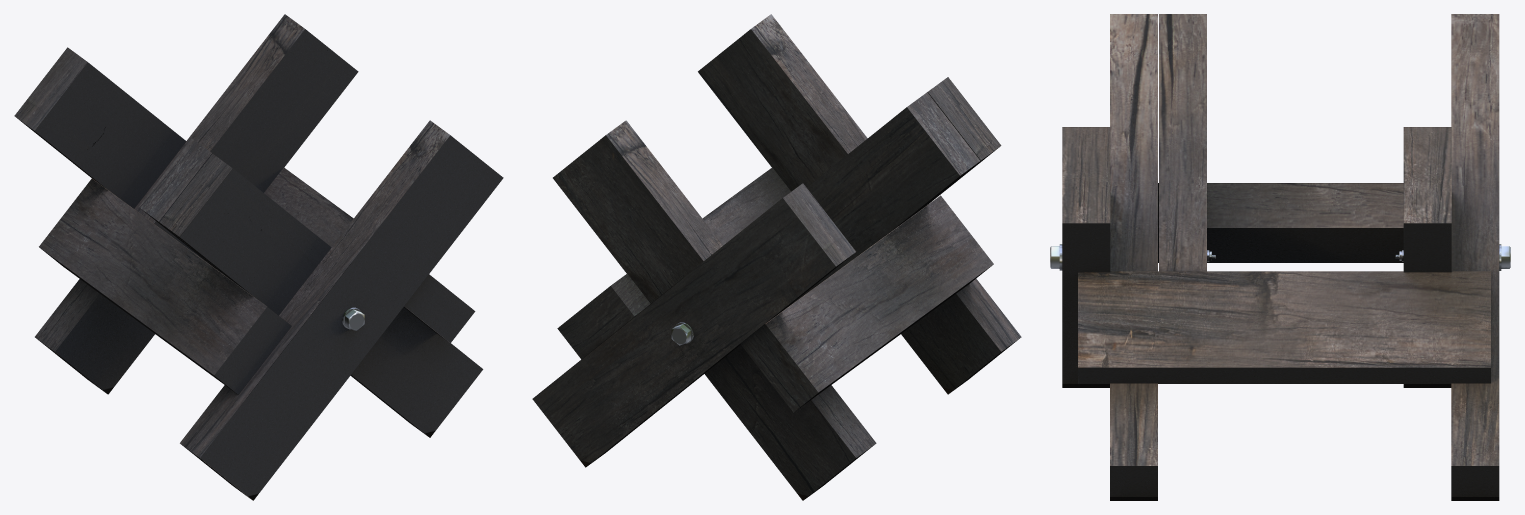
File: 竹切り.fbx
The picture shows the model from 3 angles, left to right: view 1: azimuth 30°, elevation 25°; view 2: azimuth 150°, elevation 25°; view 3: azimuth 270°, elevation 25°; orthographic projection. The views are drawn at different scales.
Visible parts, largest first — view 1: Cube.001; view 2: Cube.001; view 3: Cube.001, ねじ.
Boxes of the visible parts, bbox=[...] form: Cube.001: bbox=[14, 14, 503, 500]; Cube.001: bbox=[532, 14, 1021, 500]; Cube.001: bbox=[1062, 14, 1499, 500]; ねじ: bbox=[1050, 244, 1510, 270].
Size of the model in its own units: 407 by 407 by 454.
Materials: 2 (2 with a texture image).
